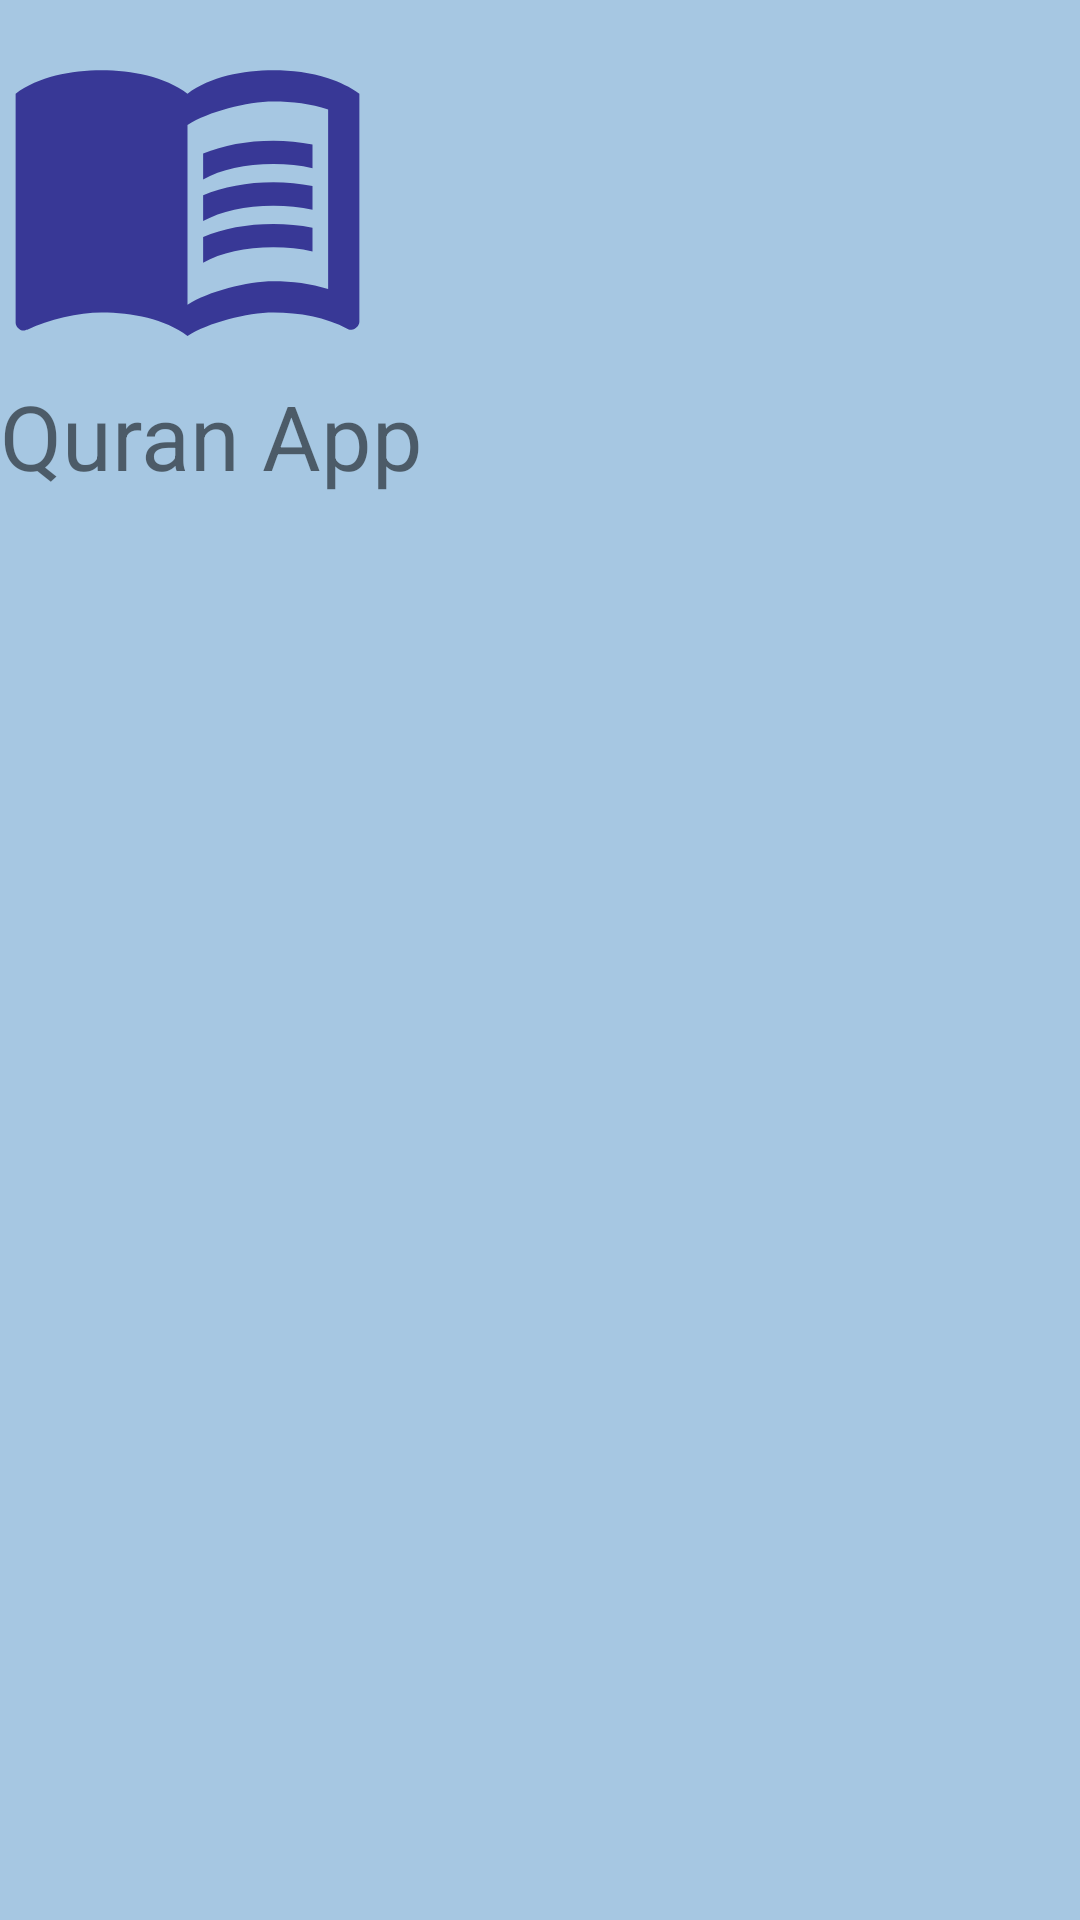

Where to tap for icons on this 1080 x 1920 app screen, as point (x, y):
book: point (187, 203)
